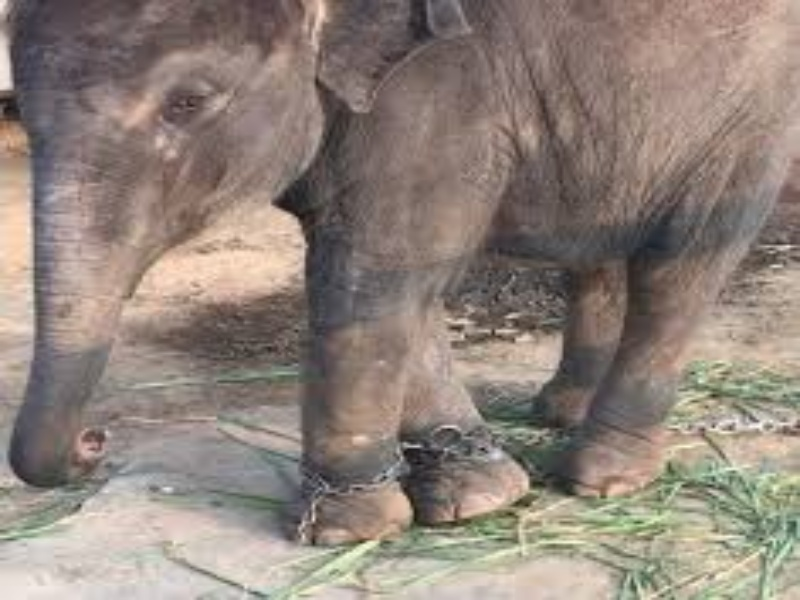elephant: (14, 11, 778, 520)
